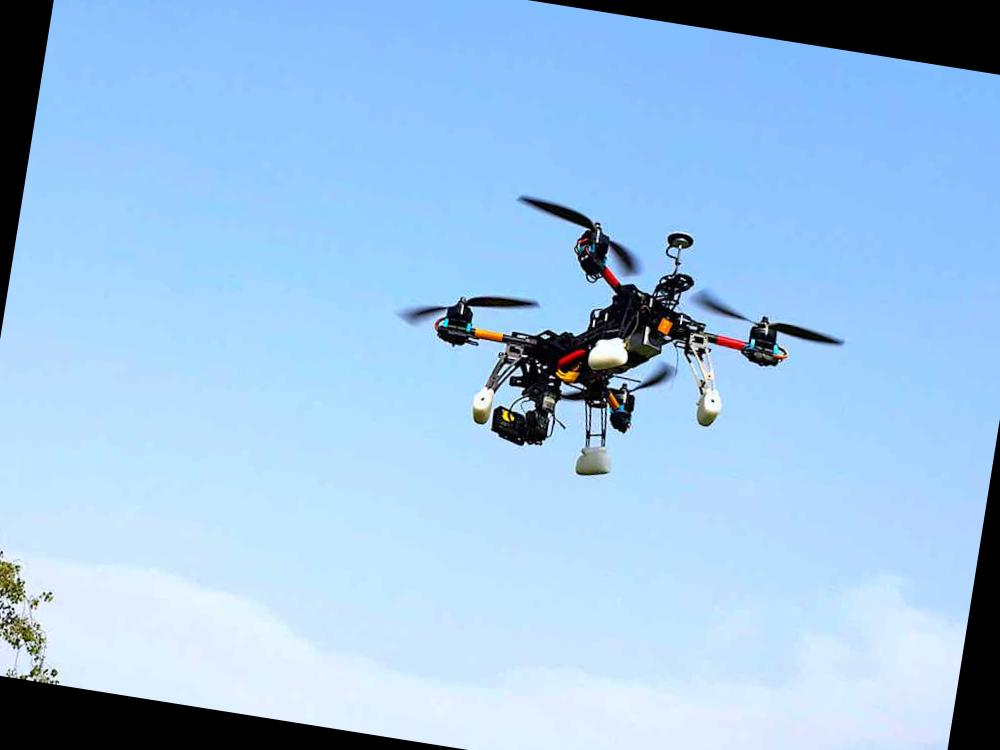drone: (398, 181, 854, 451)
